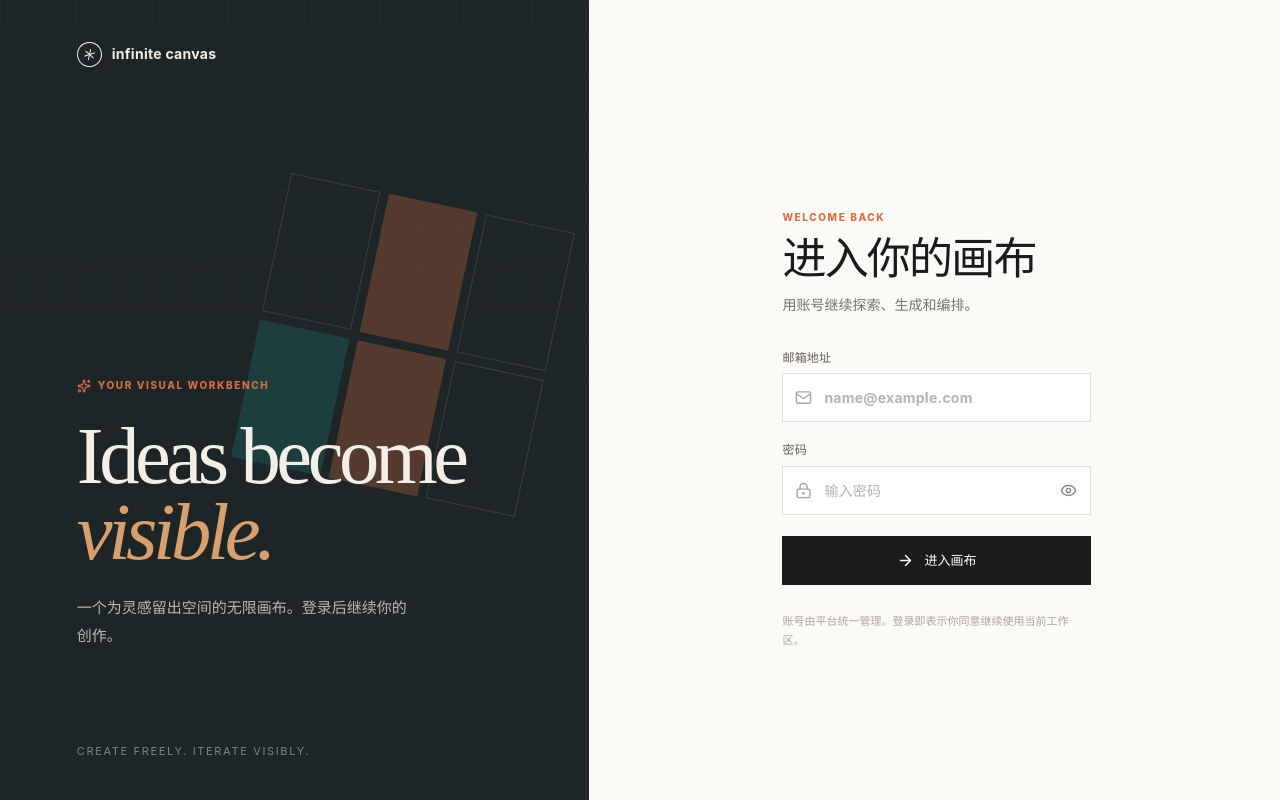
Scenario: LoginPage › shows only the credential error inline after login fails (true)
Type "user@example.com" into the field with test id "login-account" at [957, 398], box [824, 377, 1090, 419]
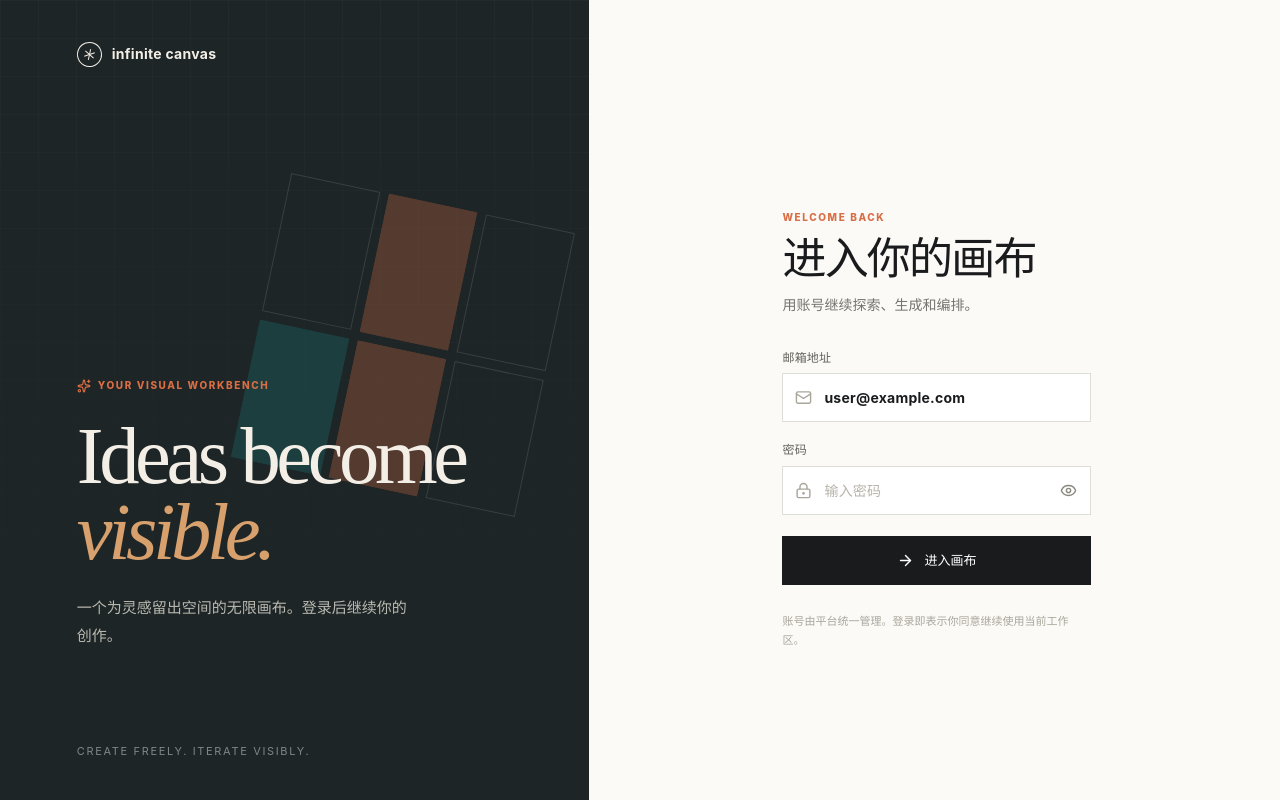
Type "secret" into the password field with test id "login-password" at [936, 491], box [824, 470, 1047, 512]
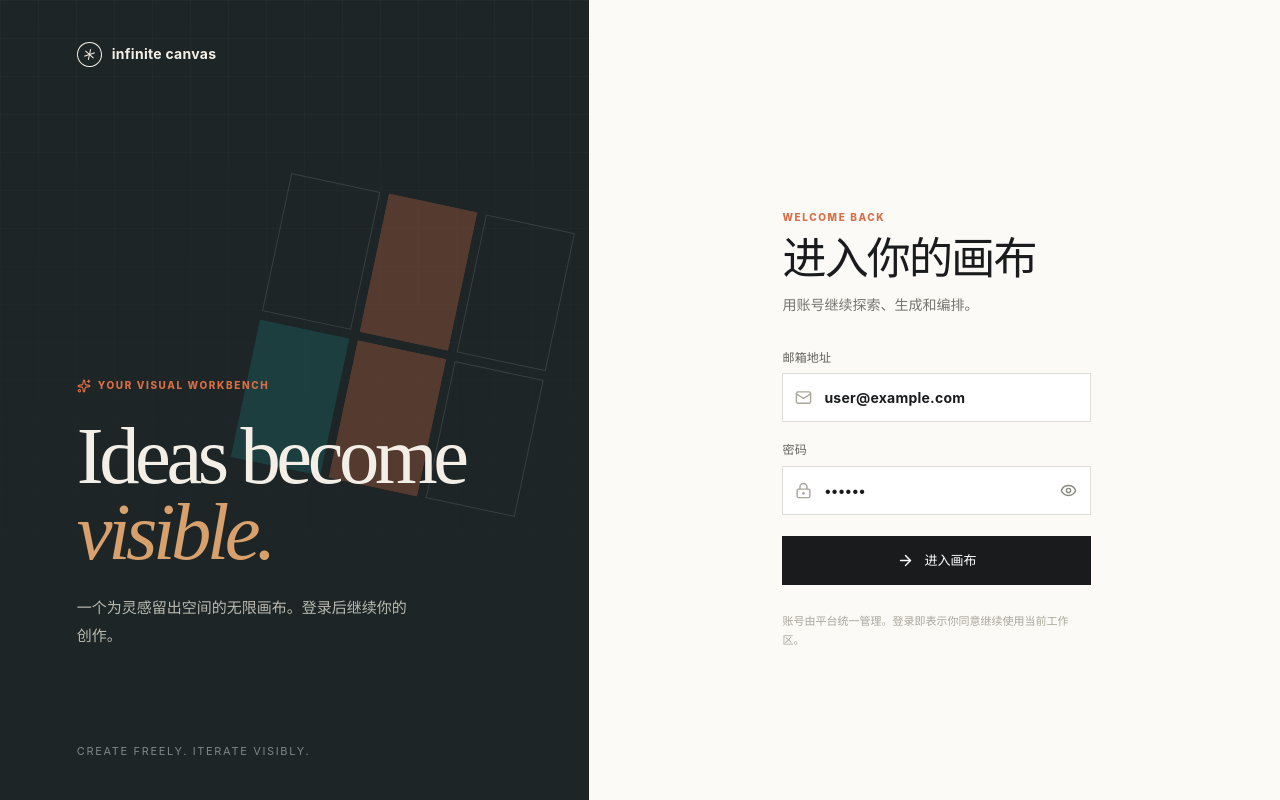
Click the button "进入画布" at [937, 561], box [782, 536, 1091, 585]
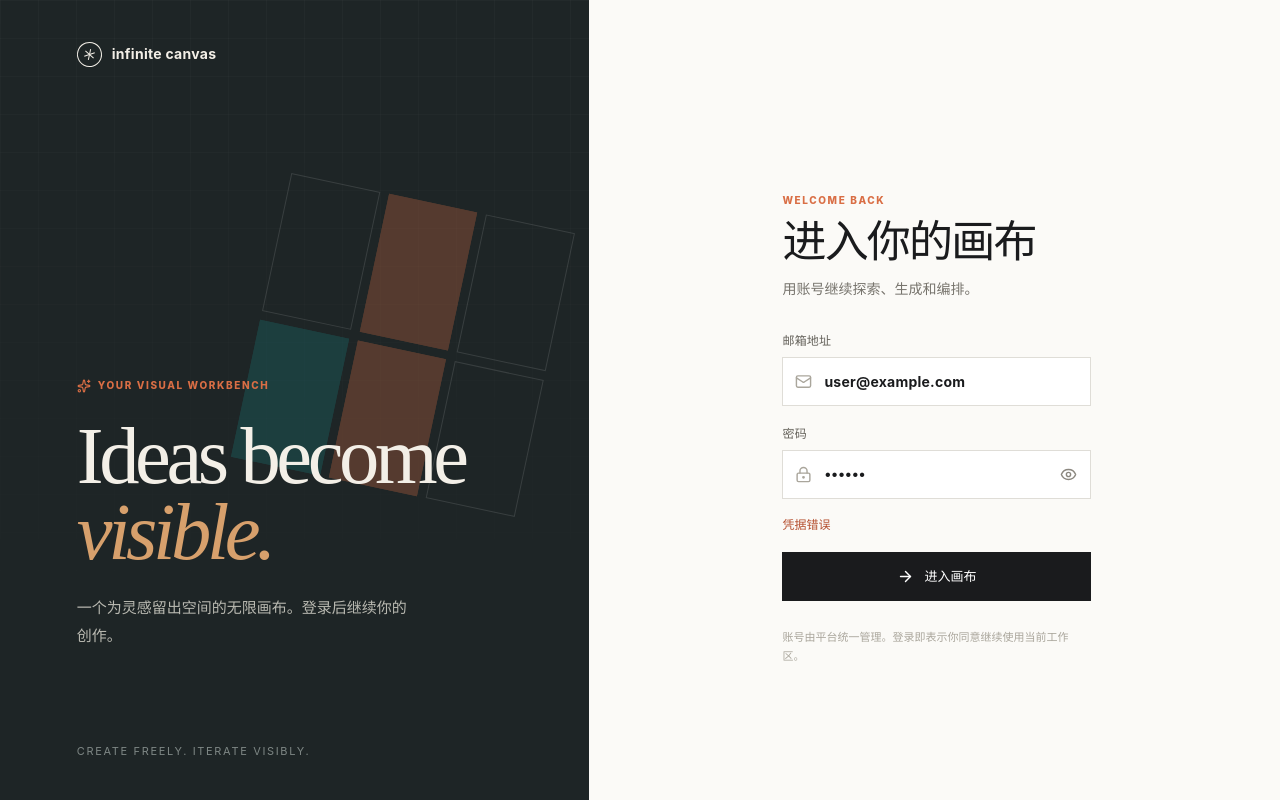
Expected: the button "进入画布" is enabled, [782, 552, 1091, 601]
Result: the message reads "凭据错误" at [782, 517, 830, 532]
